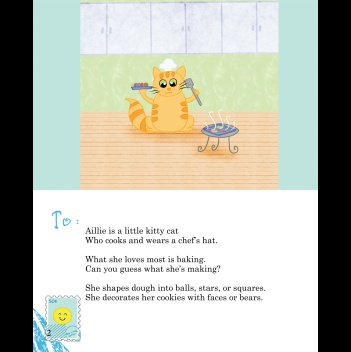latin: (84, 280, 266, 293), (83, 293, 263, 303), (84, 234, 219, 246), (84, 264, 225, 275), (83, 252, 207, 264), (83, 224, 179, 235)
